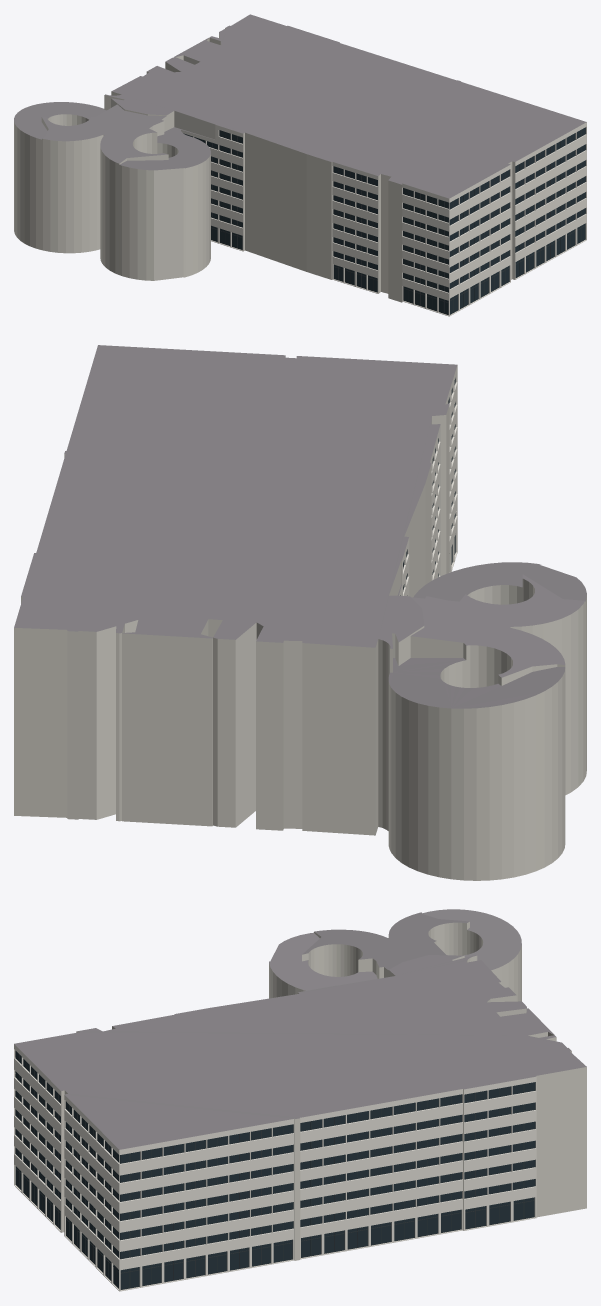
File: recipe-large-marnixstraat-248-185422.glb
3 renders of one model, top to bottom at view 1: azimuth 30°, elevation 25°; view 2: azimuth 150°, elevation 25°; view 3: azimuth 270°, elevation 25°, orthographic. The views are drawn at different scales.
Visible parts, largest first — view 1: marnixstraat-248-185422; view 2: marnixstraat-248-185422; view 3: marnixstraat-248-185422.
Part boxes in pixels (x1,y1,x2,y2): marnixstraat-248-185422: [14, 14, 586, 316]; marnixstraat-248-185422: [14, 345, 586, 880]; marnixstraat-248-185422: [14, 909, 586, 1291].
Size of the model in its own units: 82.44 by 21.85 by 80.07.
